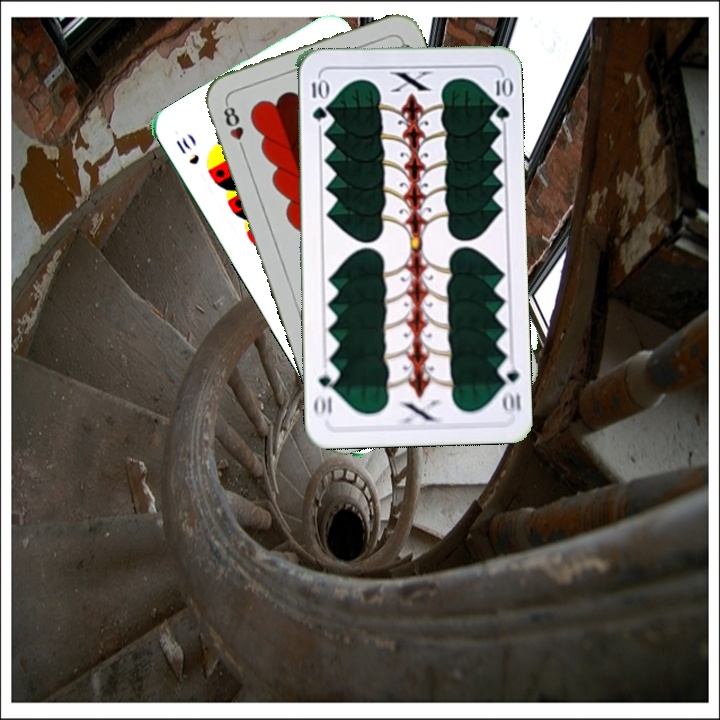G10: (495, 358, 524, 417), (307, 73, 329, 123)
H8: (219, 98, 248, 156)
S10: (171, 133, 202, 168)
